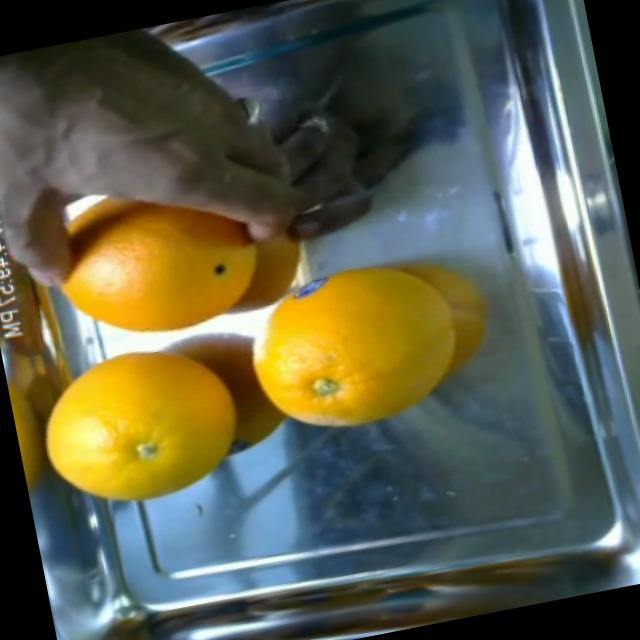Fruit: (294, 236, 518, 440)
